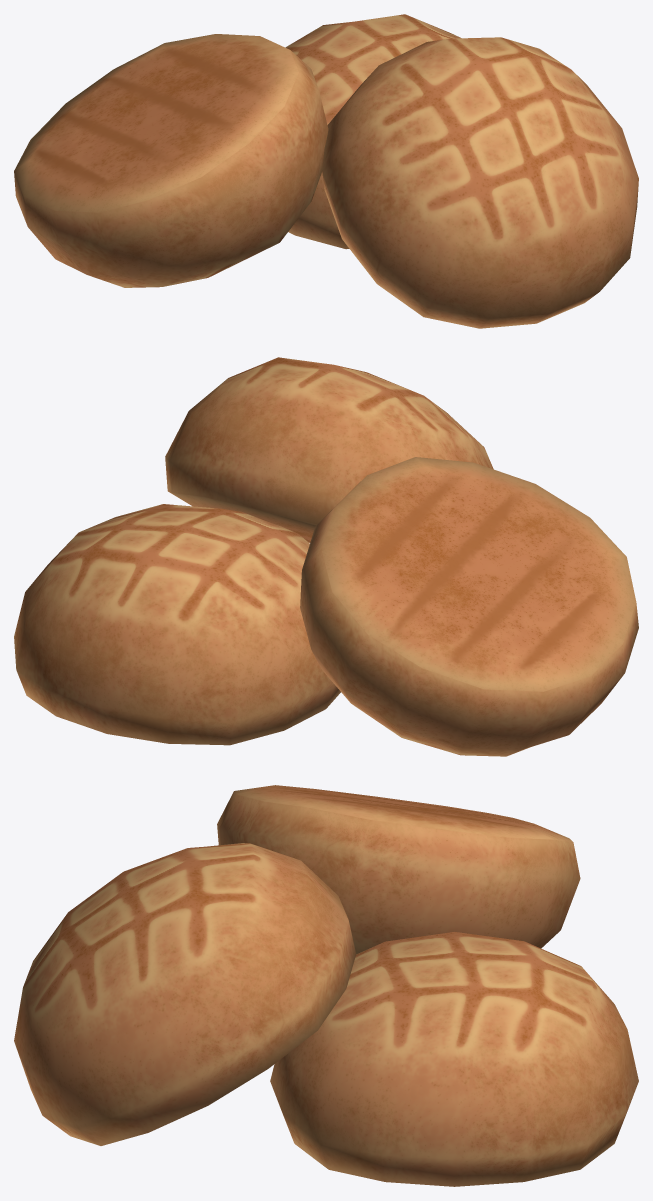
File: bread_toon.glb
3 renders of one model, top to bottom at view 1: azimuth 30°, elevation 25°; view 2: azimuth 150°, elevation 25°; view 3: azimuth 270°, elevation 25°, orthographic. The views are drawn at different scales.
Parts seen in each view (by area): view 1: b_low.004, b_low.005, b_low.003; view 2: b_low.005, b_low.003, b_low.004; view 3: b_low.004, b_low.003, b_low.005.
Part boxes in pixels (x1,y1,x2,y2): b_low.004: [322, 37, 638, 328]; b_low.005: [14, 34, 328, 287]; b_low.003: [285, 14, 461, 249]; b_low.005: [300, 457, 638, 756]; b_low.003: [14, 504, 340, 745]; b_low.004: [165, 357, 493, 542]; b_low.004: [14, 843, 356, 1145]; b_low.003: [270, 932, 638, 1186]; b_low.005: [217, 785, 580, 954].
Size of the model in its own units: 3.06 by 1.29 by 2.84.
1 material, 1 textured.
